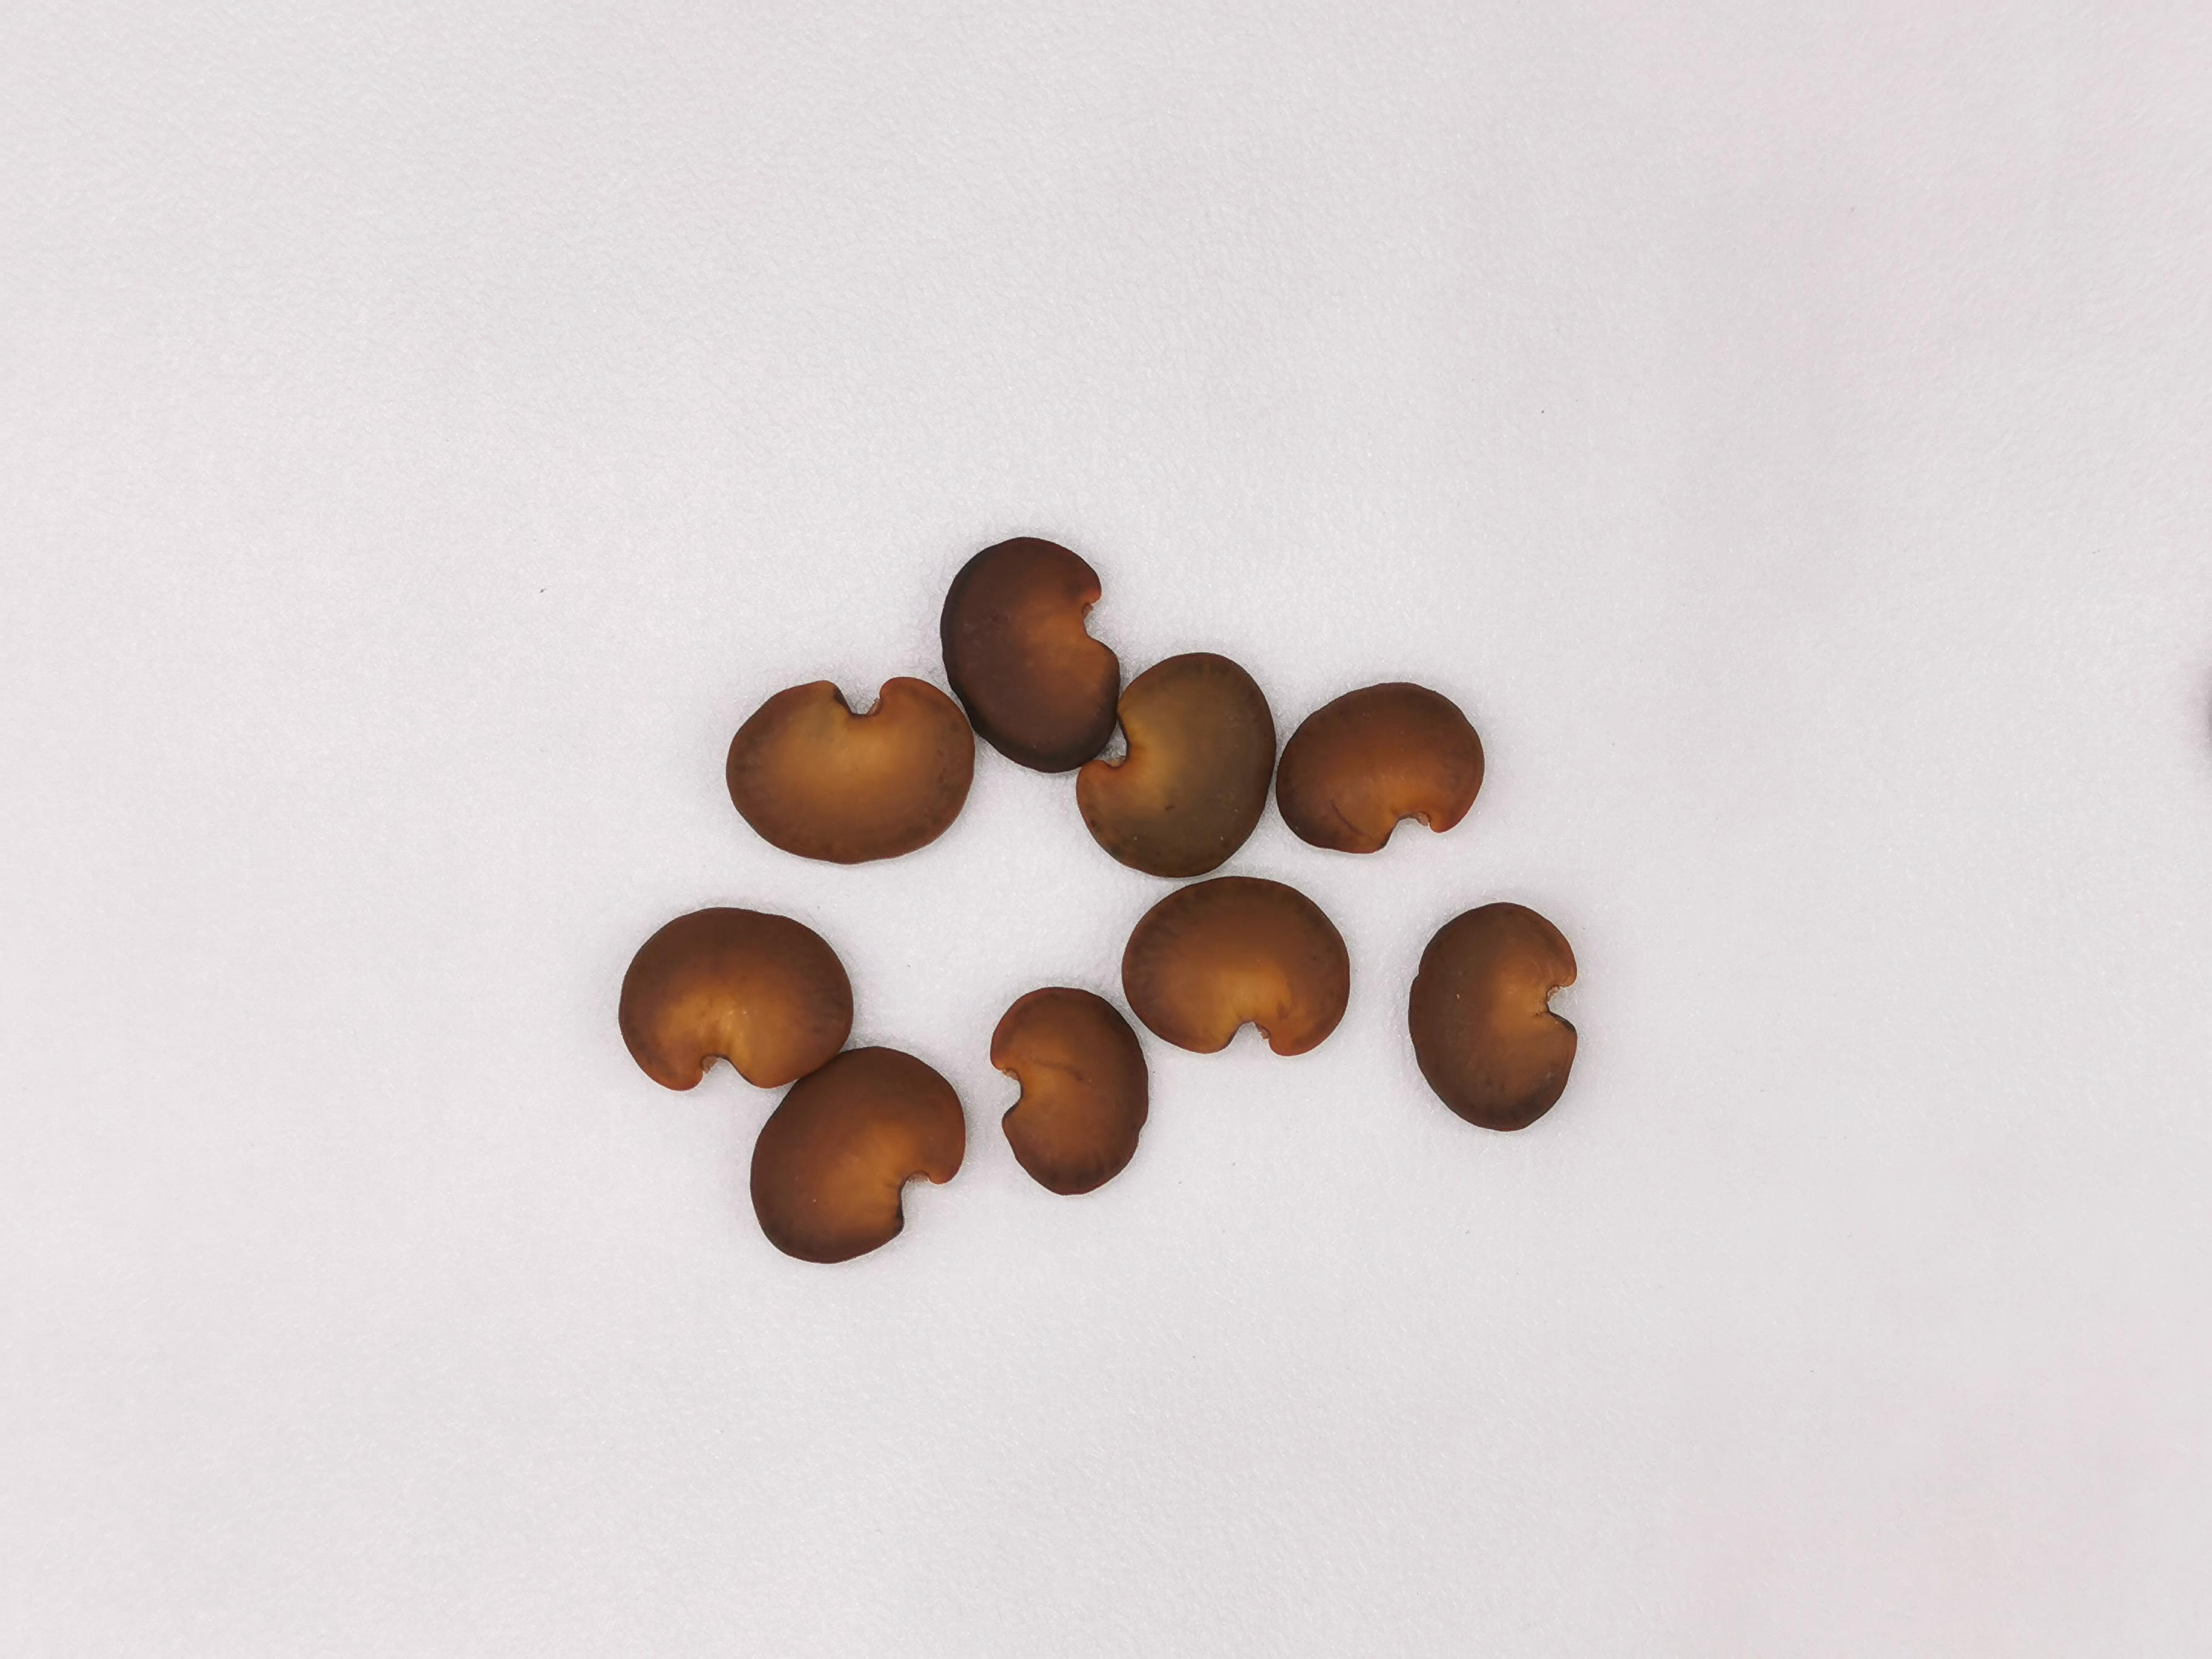seed: (721, 674, 972, 861), (749, 1046, 967, 1260), (1075, 650, 1277, 878), (615, 908, 850, 1091), (941, 533, 1116, 767), (1123, 877, 1350, 1056), (1409, 897, 1581, 1133), (1273, 676, 1486, 856), (988, 986, 1148, 1201)
